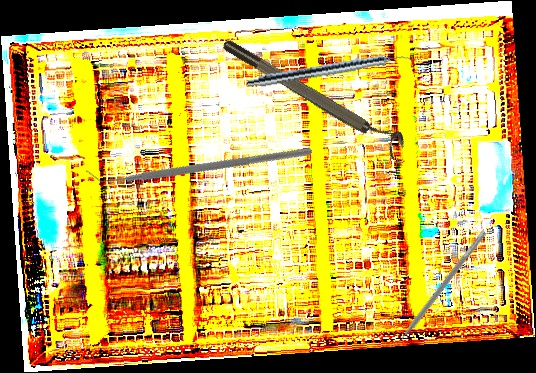Chopper: (85, 50, 313, 272)
Fixation Ring: (219, 28, 410, 161)
Handpiece: (245, 48, 416, 93)
Spatula Surgical: (387, 226, 487, 354)
